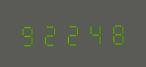eight: (106, 19, 127, 46)
four: (84, 19, 105, 46)
nine: (18, 20, 39, 47)
two: (40, 20, 61, 47), (62, 20, 83, 46)
